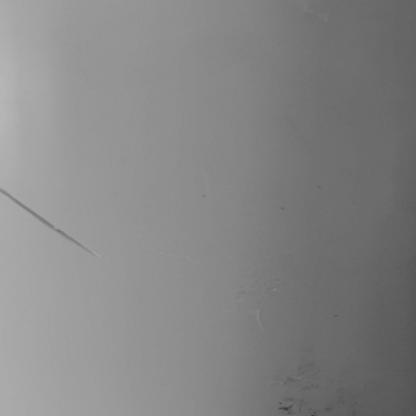sunshang: (1, 189, 98, 256)
